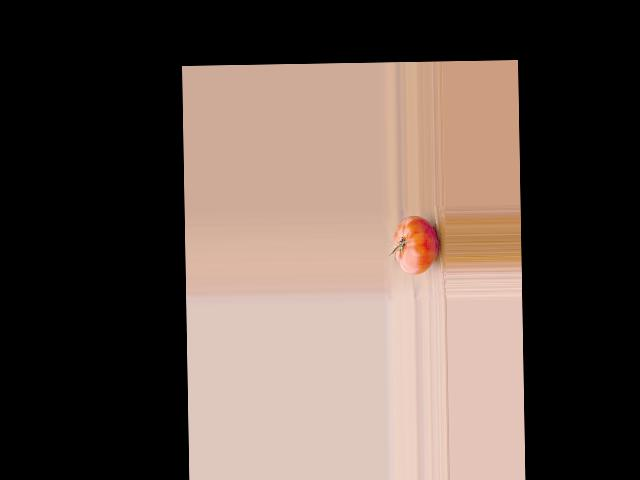tomato: (393, 216, 439, 275)
